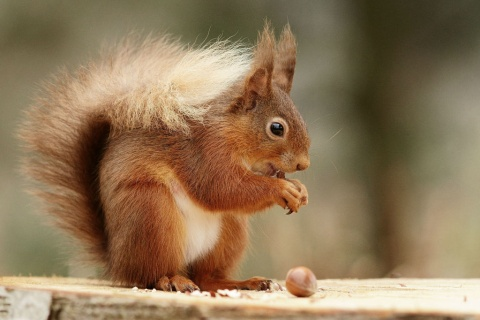Squirrel: (15, 14, 341, 293)
